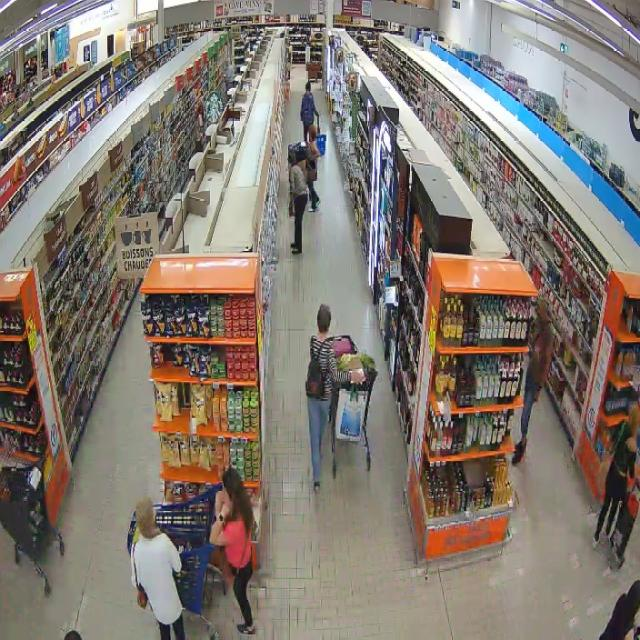bags: (596, 424, 625, 493), (132, 545, 148, 608), (306, 343, 324, 398), (211, 547, 234, 586), (308, 167, 317, 183)
hands: (215, 489, 223, 514), (220, 503, 231, 521), (350, 371, 365, 383), (534, 388, 539, 402)
person: (308, 305, 363, 491), (131, 498, 185, 639), (210, 468, 255, 635), (512, 300, 552, 464), (593, 405, 639, 546), (290, 157, 308, 254), (300, 82, 319, 142), (307, 124, 320, 211)
